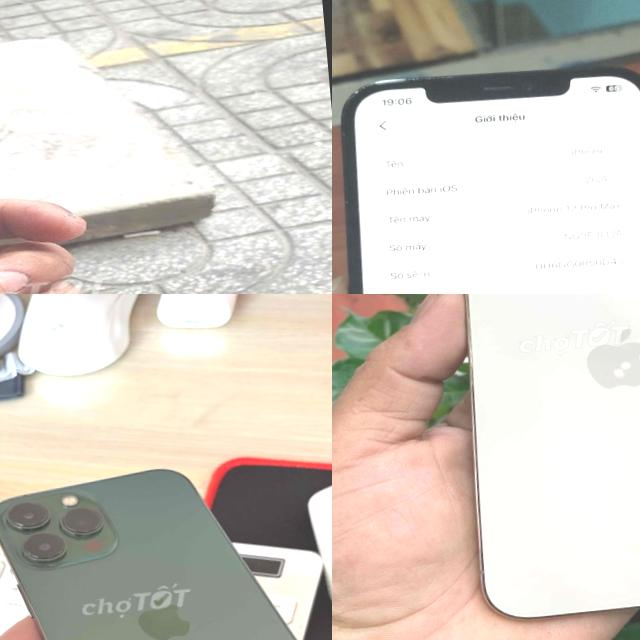gen_12_13: (332, 50, 640, 294), (437, 294, 640, 633), (0, 445, 332, 640)
